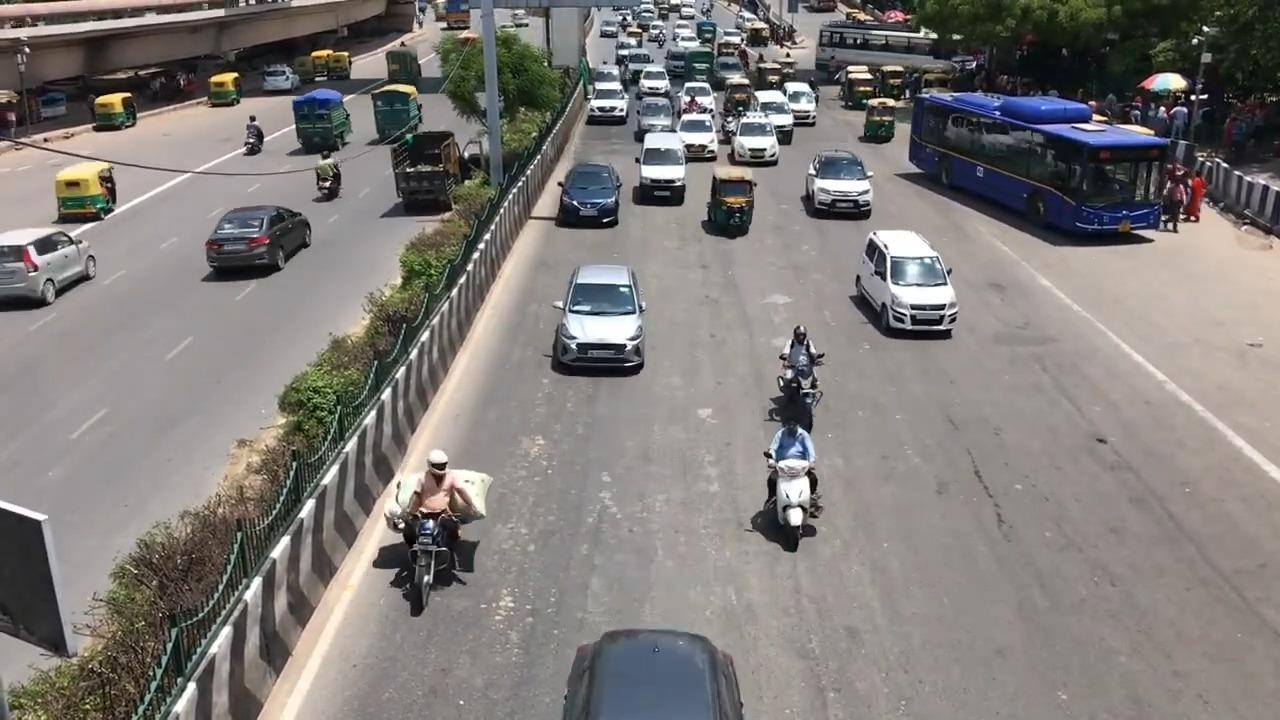Auto: (54, 162, 117, 223), (706, 165, 757, 234), (207, 71, 242, 106)
Bike: (399, 442, 471, 610), (766, 407, 816, 549), (778, 318, 829, 437), (314, 147, 341, 198), (243, 111, 267, 155)
Bus: (908, 89, 1171, 238), (814, 19, 939, 75)
Car: (550, 263, 647, 371), (804, 148, 874, 218), (556, 161, 622, 227)
Truck: (389, 129, 462, 211), (291, 88, 351, 153), (370, 82, 422, 144)
